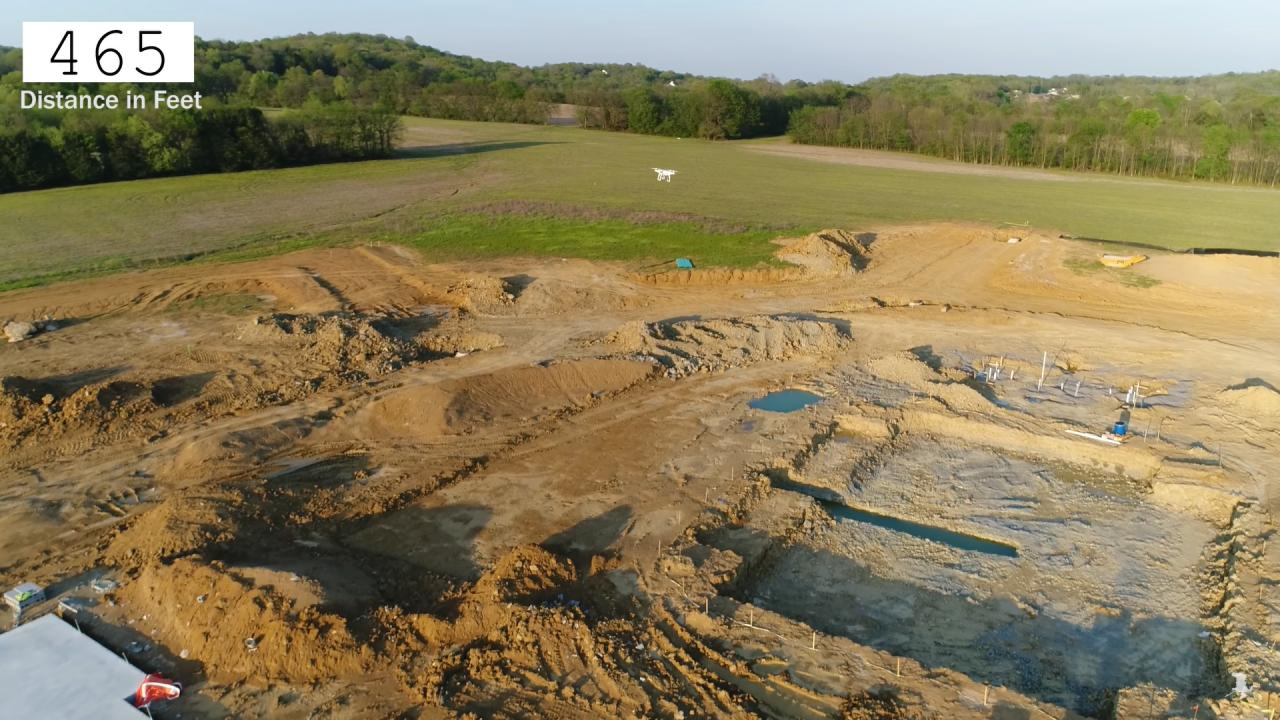Drone: (644, 160, 686, 190)
